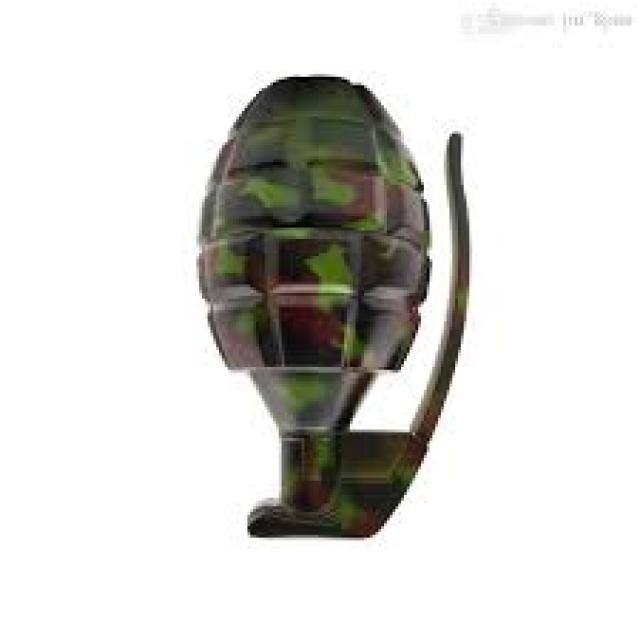grenade: (188, 68, 478, 553)
